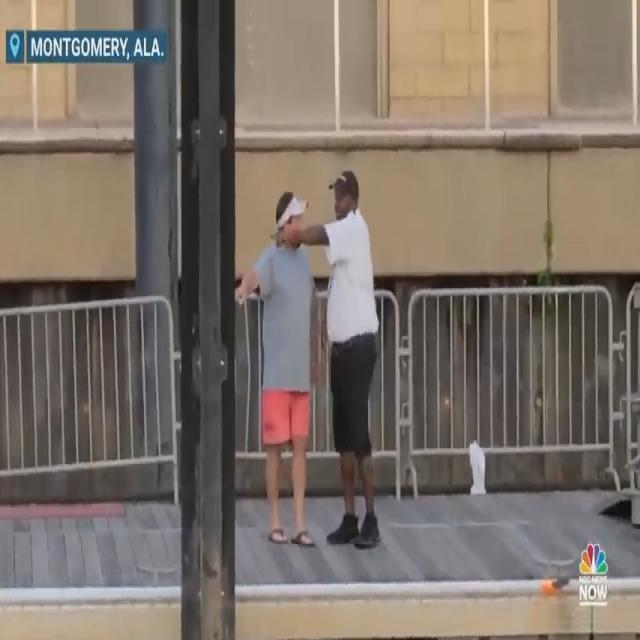non-fight: (232, 163, 398, 560)
